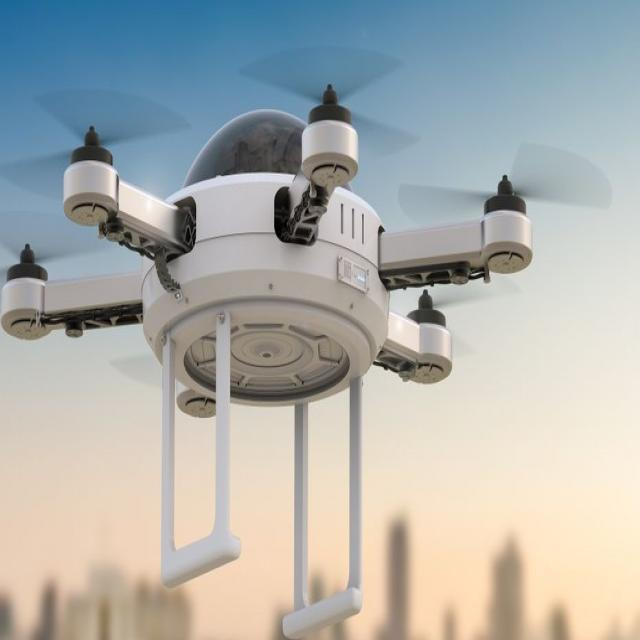drone: (0, 31, 617, 640)
